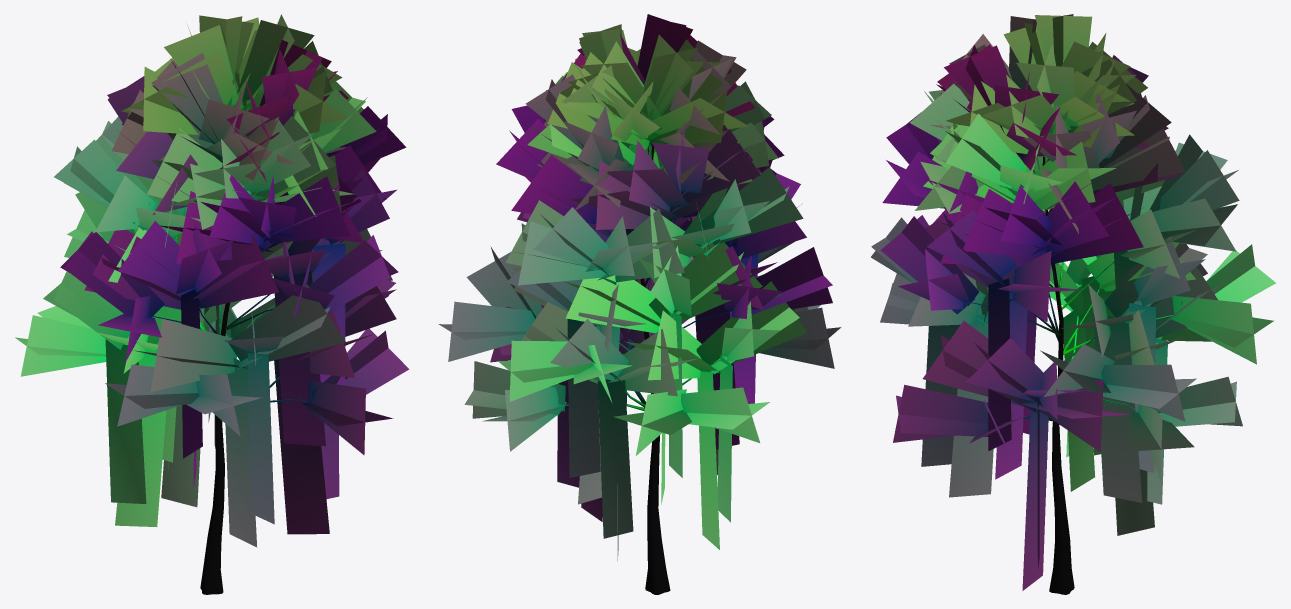
File: Tree_10_2.fbx
The picture shows the model from 3 angles, left to right: view 1: azimuth 30°, elevation 25°; view 2: azimuth 150°, elevation 25°; view 3: azimuth 270°, elevation 25°; orthographic projection. The views are drawn at different scales.
Parts seen in each view (by area): view 1: _2; view 2: _2; view 3: _2.
Boxes of the visible parts, left/top/right/bottom form: _2: left=15, top=14, right=409, bottom=594; _2: left=438, top=14, right=841, bottom=594; _2: left=871, top=14, right=1275, bottom=594.
Size of the model in its own units: 1240 by 2021 by 1297.
